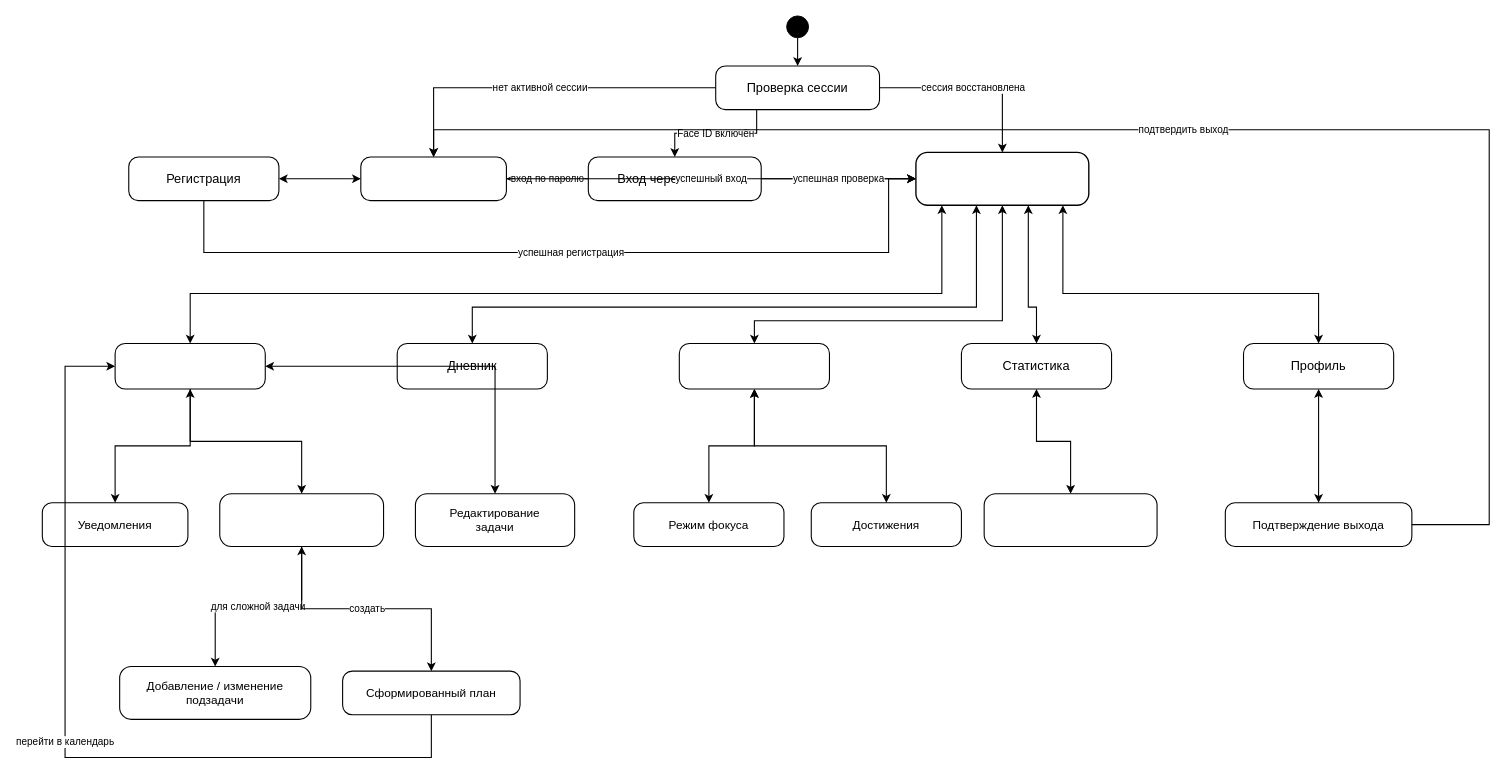
Image size: 1512x782. Some labels were removed from this diagram. Each missing label, with the box of its shape:
Анализ дня: (678, 343, 830, 389)
Вход: (360, 156, 507, 201)
Главный экран (панель разделов): (915, 151, 1089, 205)
Календарь: (114, 343, 265, 389)
Создание задачи или события: (219, 493, 384, 547)
Статистика задач за выбранный день: (983, 493, 1157, 547)
